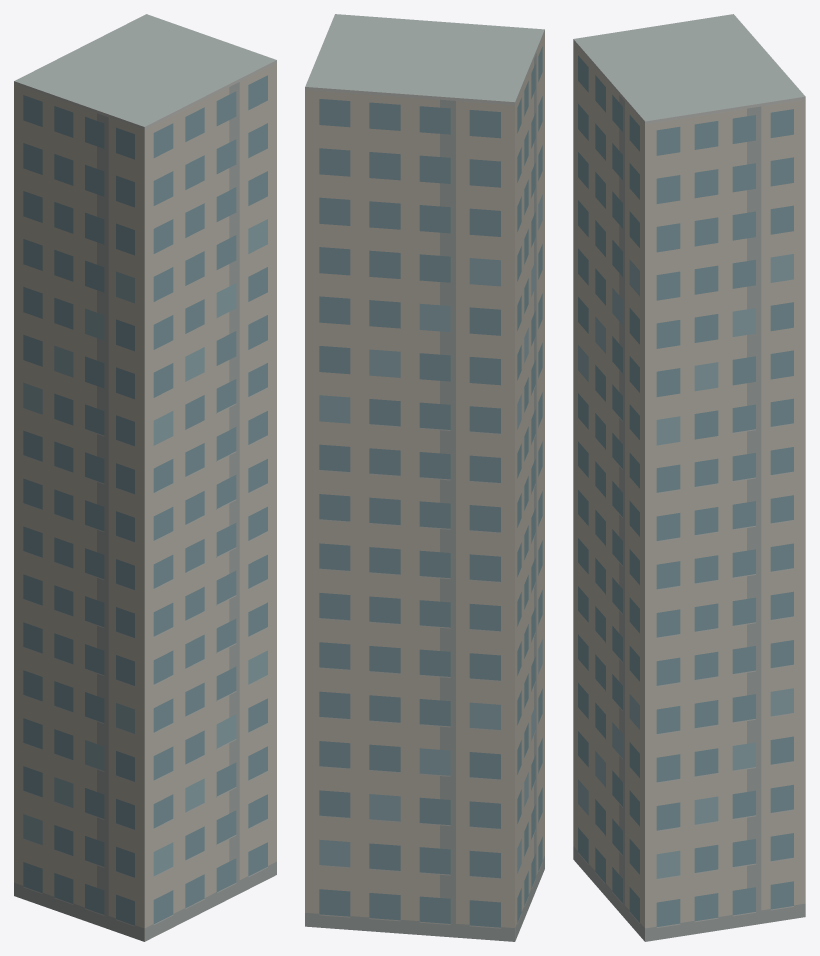
File: residential-a5052444-2eec-4867-9fec-c95be536bf87.glb
3 views of the same model, side by side, from view 1: azimuth 30°, elevation 25°; view 2: azimuth 150°, elevation 25°; view 3: azimuth 270°, elevation 25° (orthographic). The views are drawn at different scales.
Parts seen in each view (by area): view 1: residential-a5052444-2eec-4867-9fec-c95be536bf87.tmp; view 2: residential-a5052444-2eec-4867-9fec-c95be536bf87.tmp; view 3: residential-a5052444-2eec-4867-9fec-c95be536bf87.tmp.
Part boxes in pixels (x1=…): residential-a5052444-2eec-4867-9fec-c95be536bf87.tmp: x1=14, y1=14, x2=276, y2=941; residential-a5052444-2eec-4867-9fec-c95be536bf87.tmp: x1=305, y1=14, x2=544, y2=941; residential-a5052444-2eec-4867-9fec-c95be536bf87.tmp: x1=573, y1=14, x2=805, y2=941.
Size of the model in its own units: 19.11 by 68 by 17.46.
